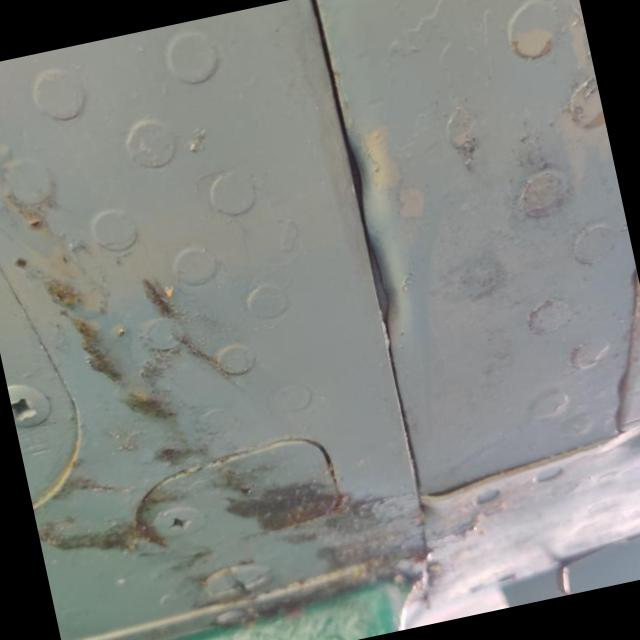Dent: (345, 125, 425, 340)
